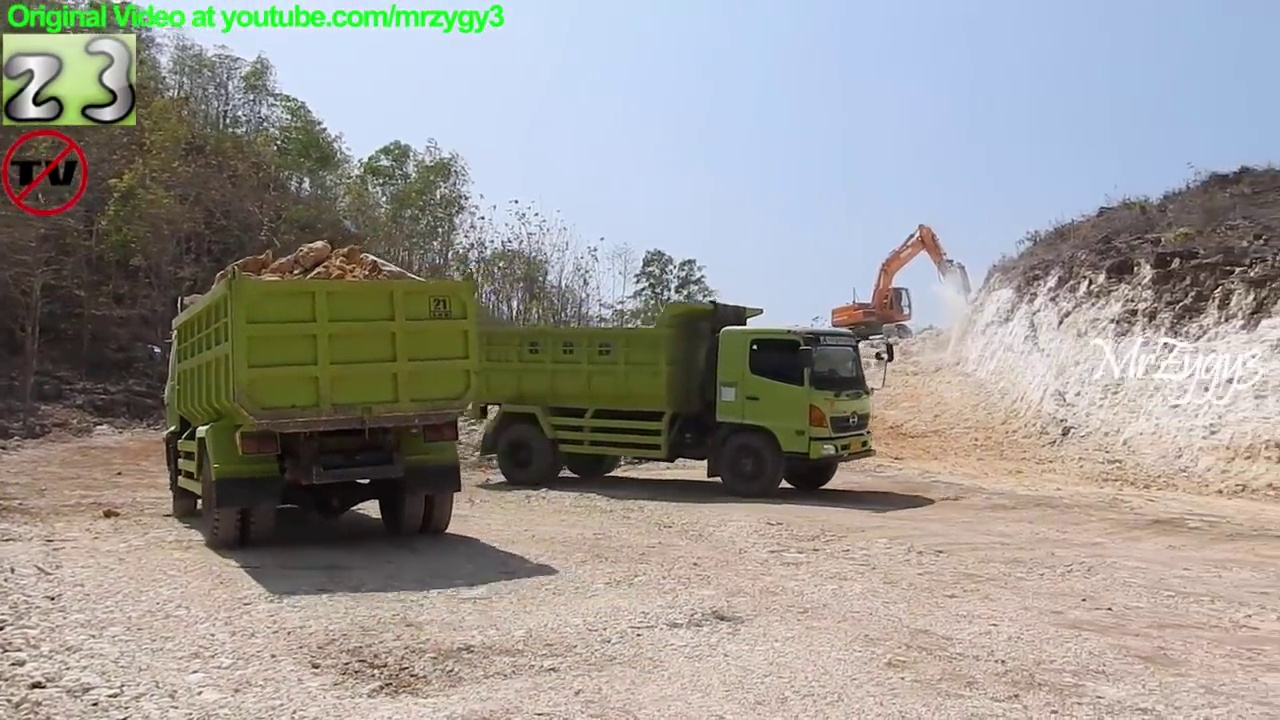excavator: (824, 217, 979, 355)
truck: (141, 258, 485, 554), (464, 295, 900, 503)
